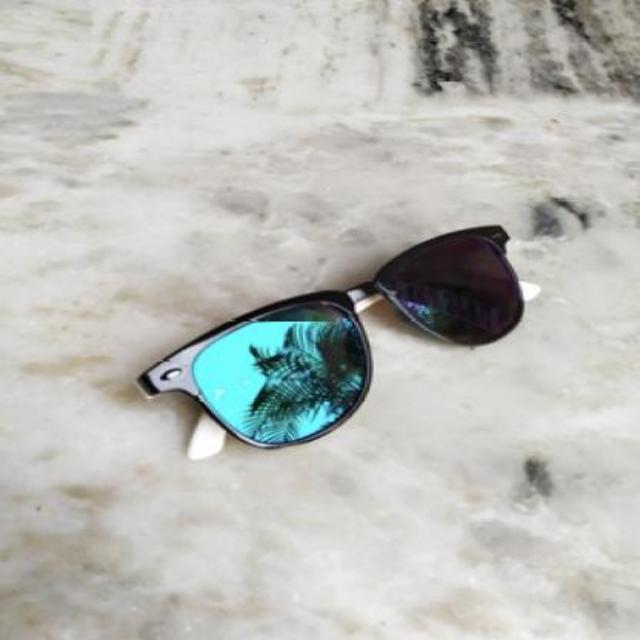sunglasses: (132, 225, 540, 460)
